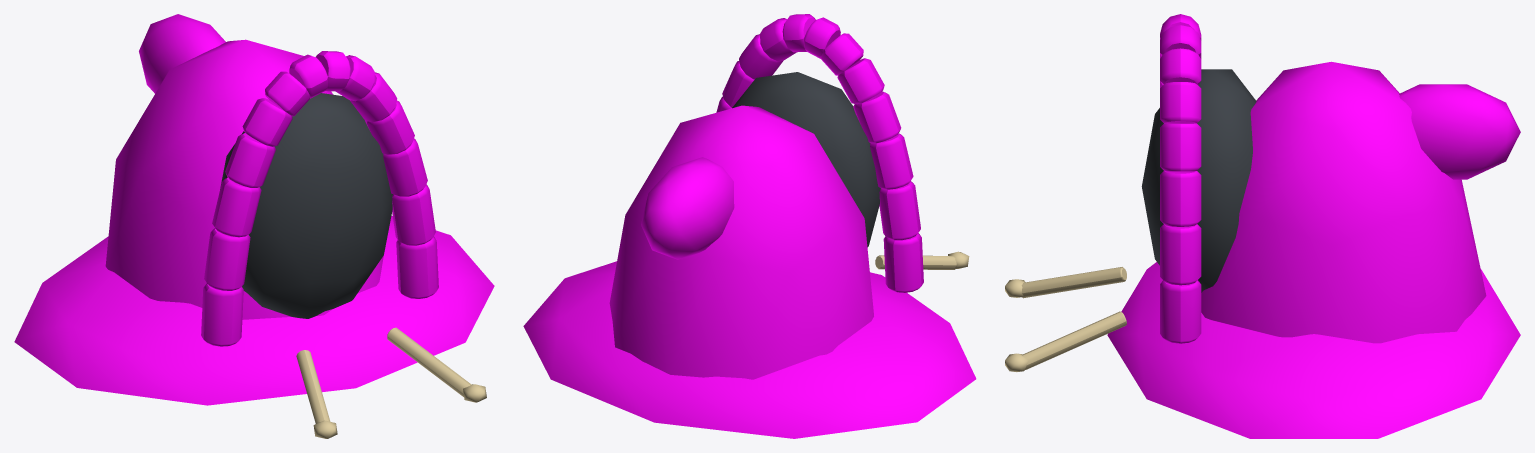
Rendered from objet_capuche.glb.
3 views of the same model, side by side, from view 1: azimuth 30°, elevation 25°; view 2: azimuth 150°, elevation 25°; view 3: azimuth 270°, elevation 25° (orthographic). The views are drawn at different scales.
Visible parts, largest first — view 1: capuche_teinte.002, capuche_teinte_sombre.002, capuche_ficelle.002; view 2: capuche_teinte.002, capuche_teinte_sombre.002, capuche_ficelle.002; view 3: capuche_teinte.002, capuche_teinte_sombre.002, capuche_ficelle.002.
Part boxes in pixels (bbox=[...]): capuche_teinte.002: bbox=[14, 14, 494, 405]; capuche_teinte_sombre.002: bbox=[220, 93, 392, 318]; capuche_ficelle.002: bbox=[296, 327, 486, 438]; capuche_teinte.002: bbox=[523, 14, 976, 438]; capuche_teinte_sombre.002: bbox=[732, 72, 880, 247]; capuche_ficelle.002: bbox=[875, 251, 969, 269]; capuche_teinte.002: bbox=[1107, 14, 1520, 438]; capuche_teinte_sombre.002: bbox=[1141, 69, 1256, 292]; capuche_ficelle.002: bbox=[1005, 267, 1126, 372].
Bounding box in the file's own units: 0.2853 × 0.201 × 0.2993.
